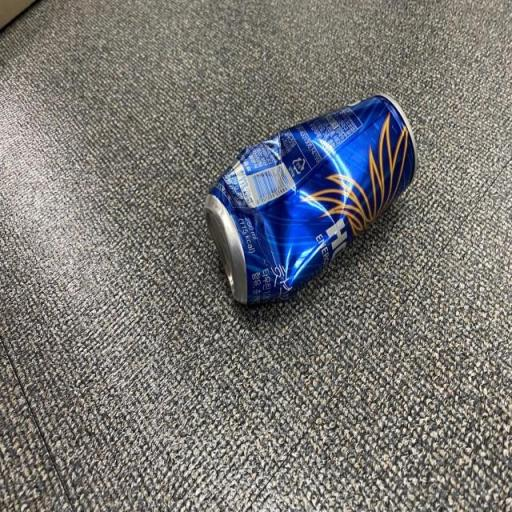metal: (196, 84, 432, 316)
